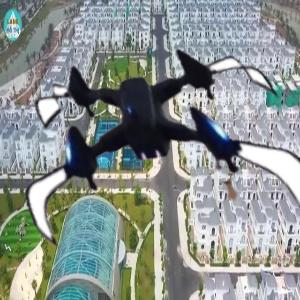drone: (6, 4, 293, 291)
